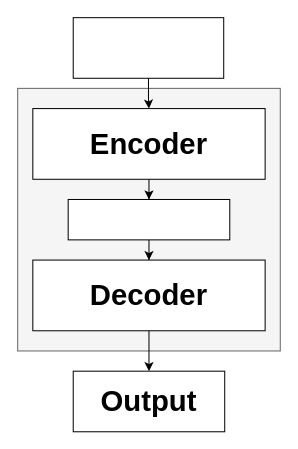
Some shapes in this 298 by 449 pixel diagram are drawn without their labels. The centre of each missing label's shape, as x and y in pixels:
Input: pixel 148 47
State (Encoding): pixel 148 219
